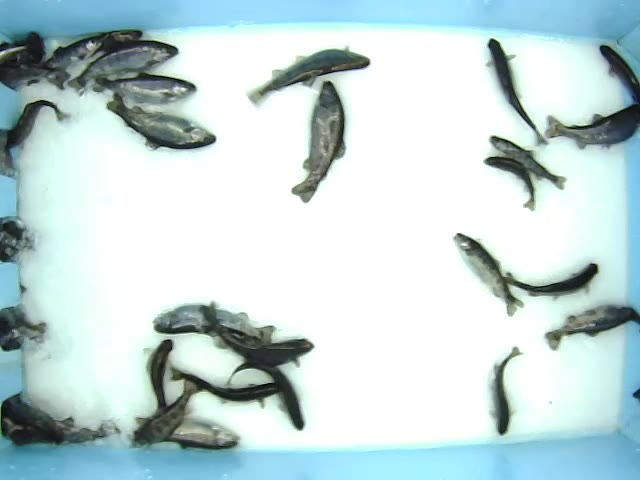fish: (197, 300, 316, 369), (246, 43, 372, 107), (485, 36, 551, 149), (290, 80, 347, 205), (66, 37, 179, 98), (105, 91, 218, 151), (451, 231, 526, 317), (224, 361, 312, 433), (151, 300, 276, 348), (166, 360, 283, 410), (128, 377, 205, 449), (545, 101, 639, 152), (488, 133, 568, 192), (543, 304, 637, 352), (500, 262, 601, 304), (486, 345, 526, 437), (92, 71, 197, 104), (482, 155, 537, 212), (142, 336, 175, 420), (36, 34, 100, 75), (136, 428, 239, 451)
